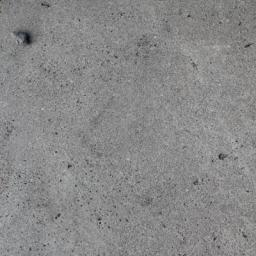FOD: (9, 29, 32, 51)
